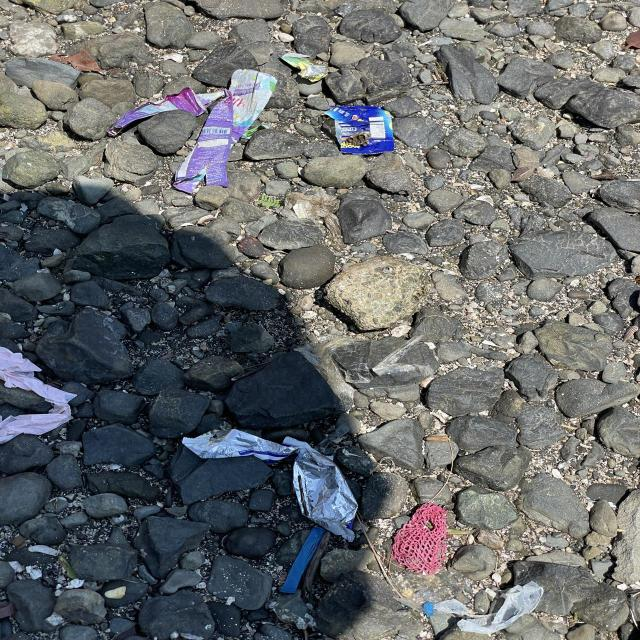plastic_waste: (110, 70, 276, 198), (183, 430, 359, 544), (326, 107, 398, 156), (283, 53, 331, 83)
